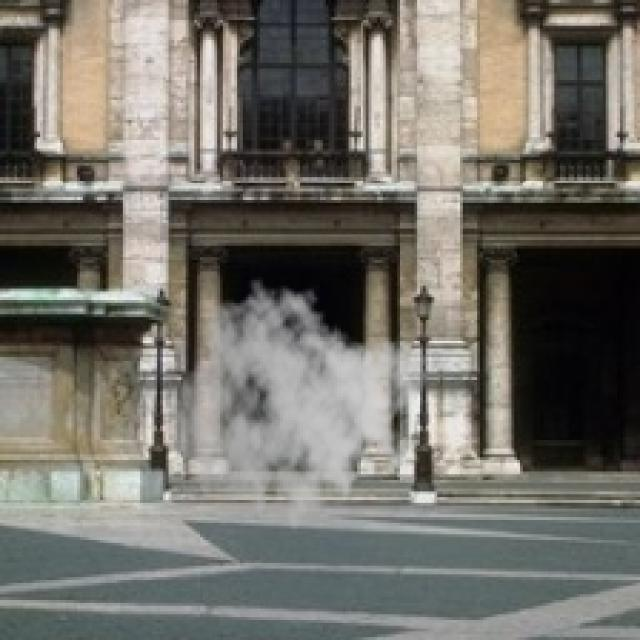smoke: (165, 277, 428, 546)
